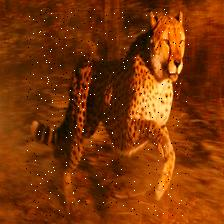Cheetha: (26, 9, 189, 218)
